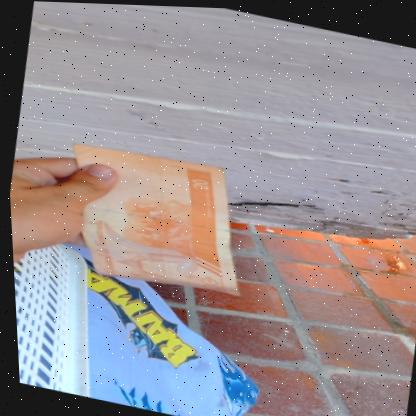twenty-back-vef: (47, 134, 259, 302)
